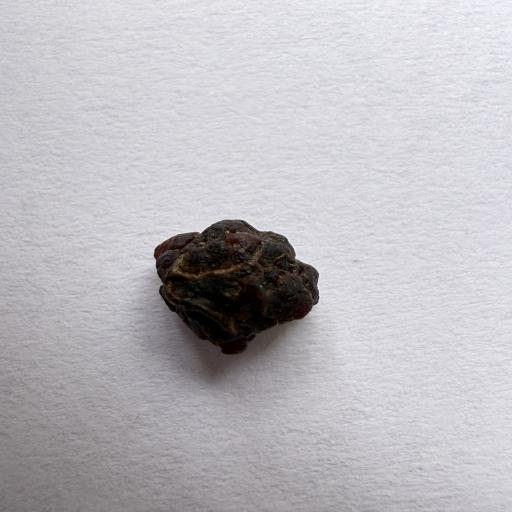Black_pepper: (115, 180, 328, 378)
